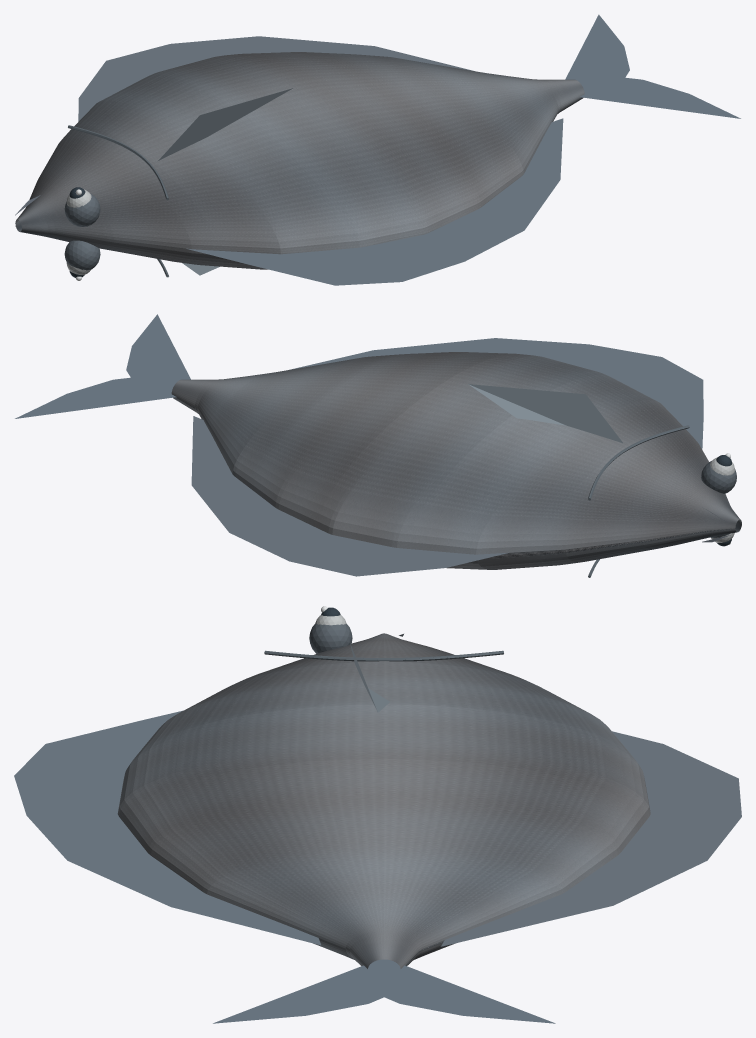
File: Ikan_Bawal_Hitam.glb
3 renders of one model, top to bottom at view 1: azimuth 30°, elevation 25°; view 2: azimuth 150°, elevation 25°; view 3: azimuth 270°, elevation 25°, orthographic. The views are drawn at different scales.
Parts seen in each view (by area): view 1: fish; view 2: fish; view 3: fish.
Boxes of the visible parts, x1=… form: fish: x1=15, y1=14, x2=740, y2=285; fish: x1=15, y1=314, x2=741, y2=577; fish: x1=14, y1=606, x2=741, y2=1023.
Size of the model in its own units: 2.89 by 0.68 by 2.32.
1 material, 1 textured.
